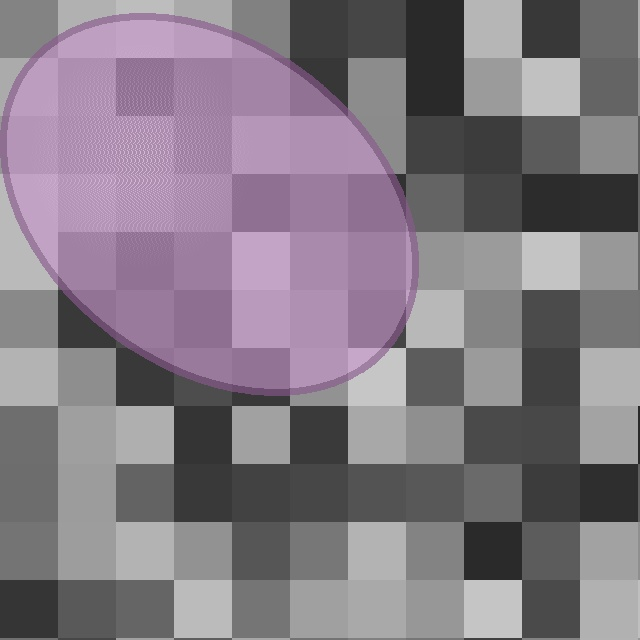lens: (3, 16, 415, 392)
